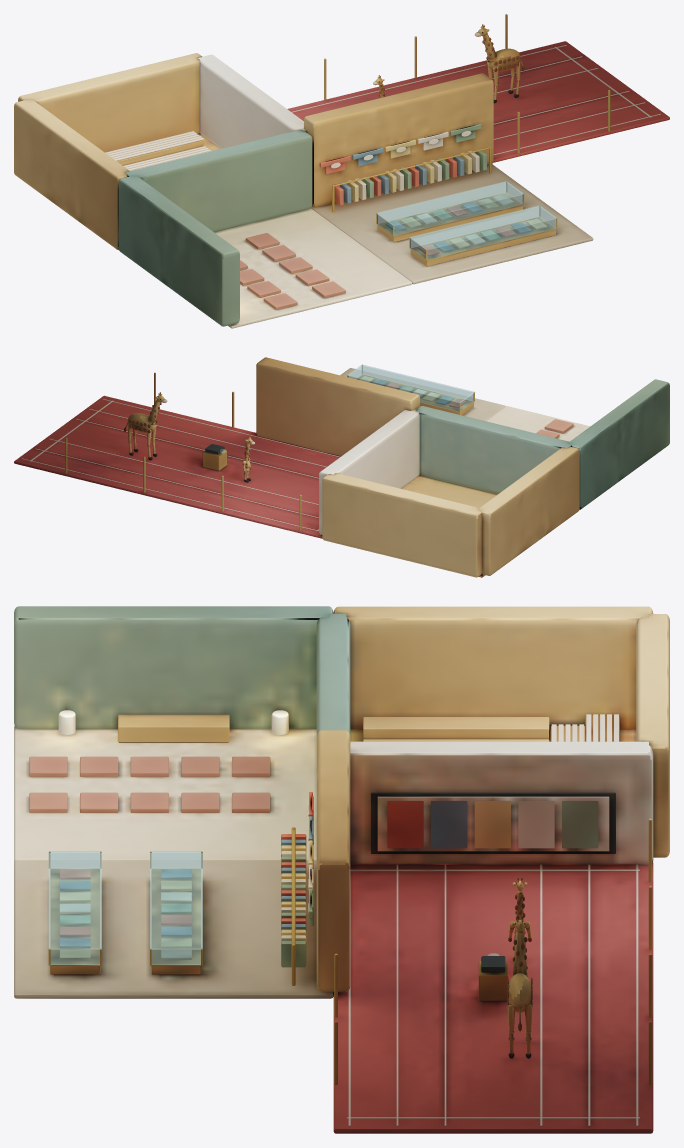
Rendered from baked.glb.
3 views of the same model, one above another, from view 1: azimuth 30°, elevation 25°; view 2: azimuth 150°, elevation 25°; view 3: azimuth 270°, elevation 25° (orthographic). The views are drawn at different scales.
Visible parts, largest first — view 1: Sports_Floor, Vintage_Tshirt_Wall, Vintage_Floor, Prayer_Back_Wall, Sauna_Back_Wall, Prayer_Left_Wall, Supporters_Floor, Sauna_Left_Wall, Shared_Sauna_Sports_Wall, Showcase_Top_Glass.001, Showcase_Top_Glass, Showcase_Base_0 (+6 smaller); view 2: Sports_Floor, Sauna_Back_Wall, Vintage_Tshirt_Wall, Prayer_Back_Wall, Sauna_Left_Wall, Prayer_Left_Wall, Shared_Sauna_Sports_Wall, Showcase_Top_Glass, Sauna_Floor, Supporters_Floor, Vintage_Floor, Showcase_Side_Glass (+7 smaller); view 3: Sports_Floor, Prayer_Left_Wall, Sauna_Left_Wall, Supporters_Floor, Vintage_Floor, Shared_Sauna_Sports_Wall, Vintage_Tshirt_Wall, Sauna_Back_Wall, Showcase_Top_Glass, Showcase_Top_Glass.001, Projection_Screen, West_Bench_Tier_1 (+31 smaller).
Boxes of the visible parts, <box> form: Sports_Floor: <box>287,41,669,162</box>; Vintage_Tshirt_Wall: <box>304,73,493,207</box>; Vintage_Floor: <box>311,164,593,284</box>; Prayer_Back_Wall: <box>125,129,312,232</box>; Sauna_Back_Wall: <box>18,53,202,152</box>; Prayer_Left_Wall: <box>118,175,239,326</box>; Supporters_Floor: <box>214,208,412,328</box>; Sauna_Left_Wall: <box>14,99,129,249</box>; Shared_Sauna_Sports_Wall: <box>198,54,307,148</box>; Showcase_Top_Glass.001: <box>376,181,524,226</box>; Showcase_Top_Glass: <box>409,205,557,250</box>; Showcase_Base_0: <box>410,217,555,266</box>; Sports_Floor: <box>14,395,340,538</box>; Sauna_Back_Wall: <box>322,473,482,577</box>; Vintage_Tshirt_Wall: <box>256,357,419,456</box>; Prayer_Back_Wall: <box>415,406,572,494</box>; Sauna_Left_Wall: <box>478,446,579,575</box>; Prayer_Left_Wall: <box>568,379,669,509</box>; Shared_Sauna_Sports_Wall: <box>319,409,419,534</box>; Showcase_Top_Glass: <box>347,364,474,403</box>; Sauna_Floor: <box>401,475,497,577</box>; Supporters_Floor: <box>486,406,589,441</box>; Vintage_Floor: <box>340,368,505,421</box>; Showcase_Side_Glass: <box>363,365,473,400</box>; Sports_Floor: <box>333,861,653,1133</box>; Prayer_Left_Wall: <box>14,606,333,729</box>; Sauna_Left_Wall: <box>333,606,653,729</box>; Supporters_Floor: <box>14,726,316,861</box>; Vintage_Floor: <box>14,860,333,998</box>; Shared_Sauna_Sports_Wall: <box>350,741,653,864</box>; Vintage_Tshirt_Wall: <box>316,730,350,992</box>; Sauna_Back_Wall: <box>636,614,669,857</box>; Showcase_Top_Glass: <box>48,851,101,949</box>; Showcase_Top_Glass.001: <box>150,851,202,949</box>; Projection_Screen: <box>377,796,609,851</box>; West_Bench_Tier_1: <box>363,717,549,739</box>.
Size of what is drawn, in the model's own units: 36.63 by 5.62 by 24.63.
2 materials, 1 textured.
